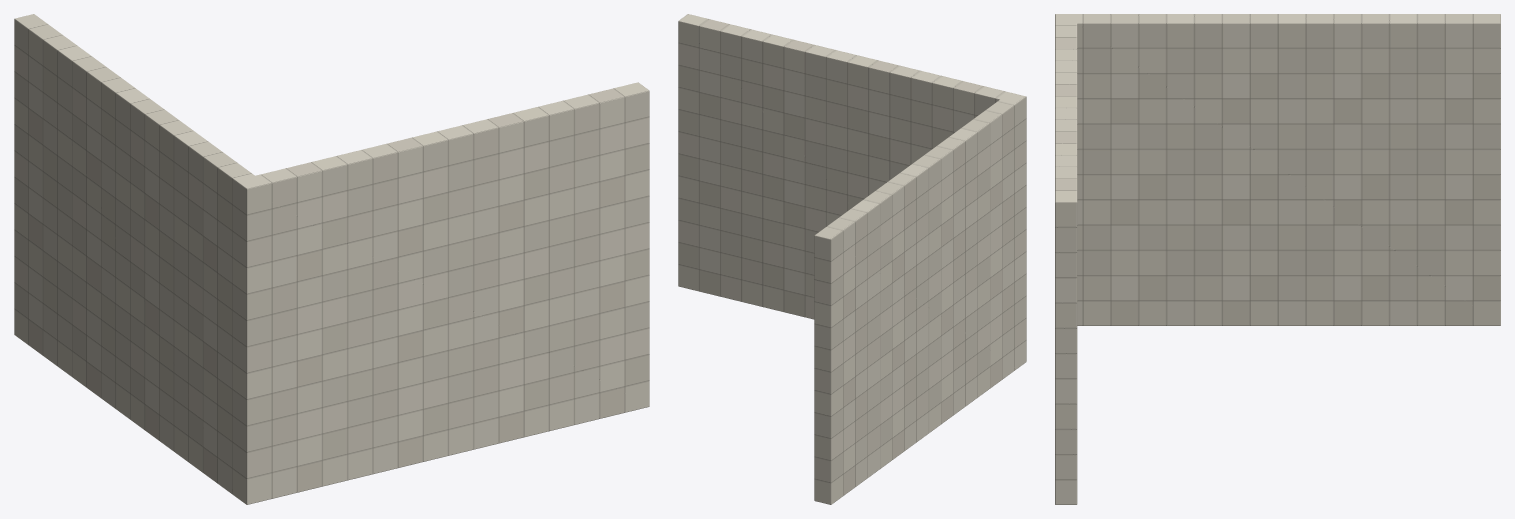
File: MOD_04_Wall_InnerCorner.glb
The picture shows the model from 3 angles, left to right: view 1: azimuth 30°, elevation 25°; view 2: azimuth 150°, elevation 25°; view 3: azimuth 270°, elevation 25°; orthographic projection. The views are drawn at different scales.
Parts seen in each view (by area): view 1: MOD_04_Wall_InnerCorner_Export; view 2: MOD_04_Wall_InnerCorner_Export; view 3: MOD_04_Wall_InnerCorner_Export.
Part boxes in pixels (bbox=[...]): MOD_04_Wall_InnerCorner_Export: bbox=[14, 14, 649, 504]; MOD_04_Wall_InnerCorner_Export: bbox=[678, 14, 1026, 504]; MOD_04_Wall_InnerCorner_Export: bbox=[1055, 14, 1500, 504].
Bounding box in the file's own units: 4 × 3 × 4.
Materials: 1 (1 with a texture image).
